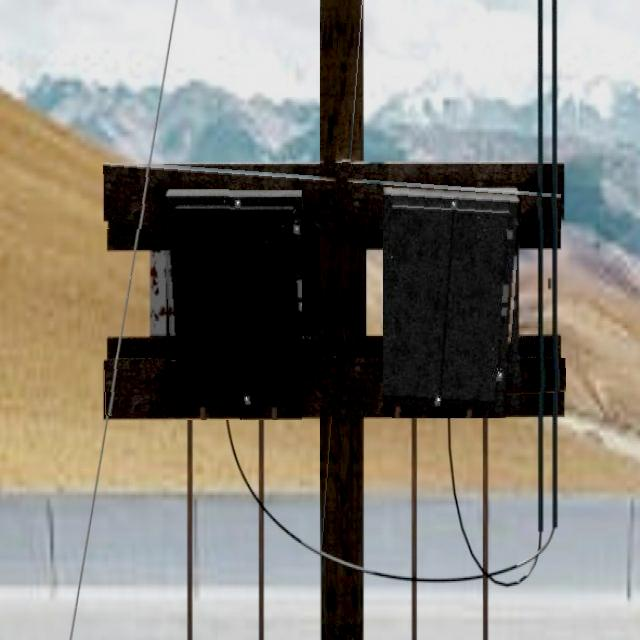crossarm: (105, 161, 561, 229), (103, 358, 566, 416)
pole: (320, 0, 363, 639)
transformer: (163, 190, 302, 420), (383, 189, 520, 418)
